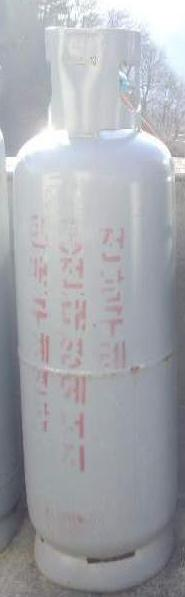cylinder: (1, 1, 185, 597)
